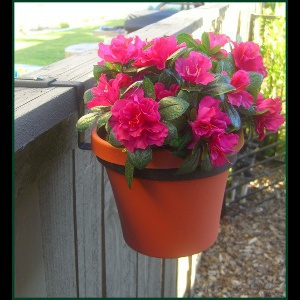flowerpot: (89, 100, 245, 257)
